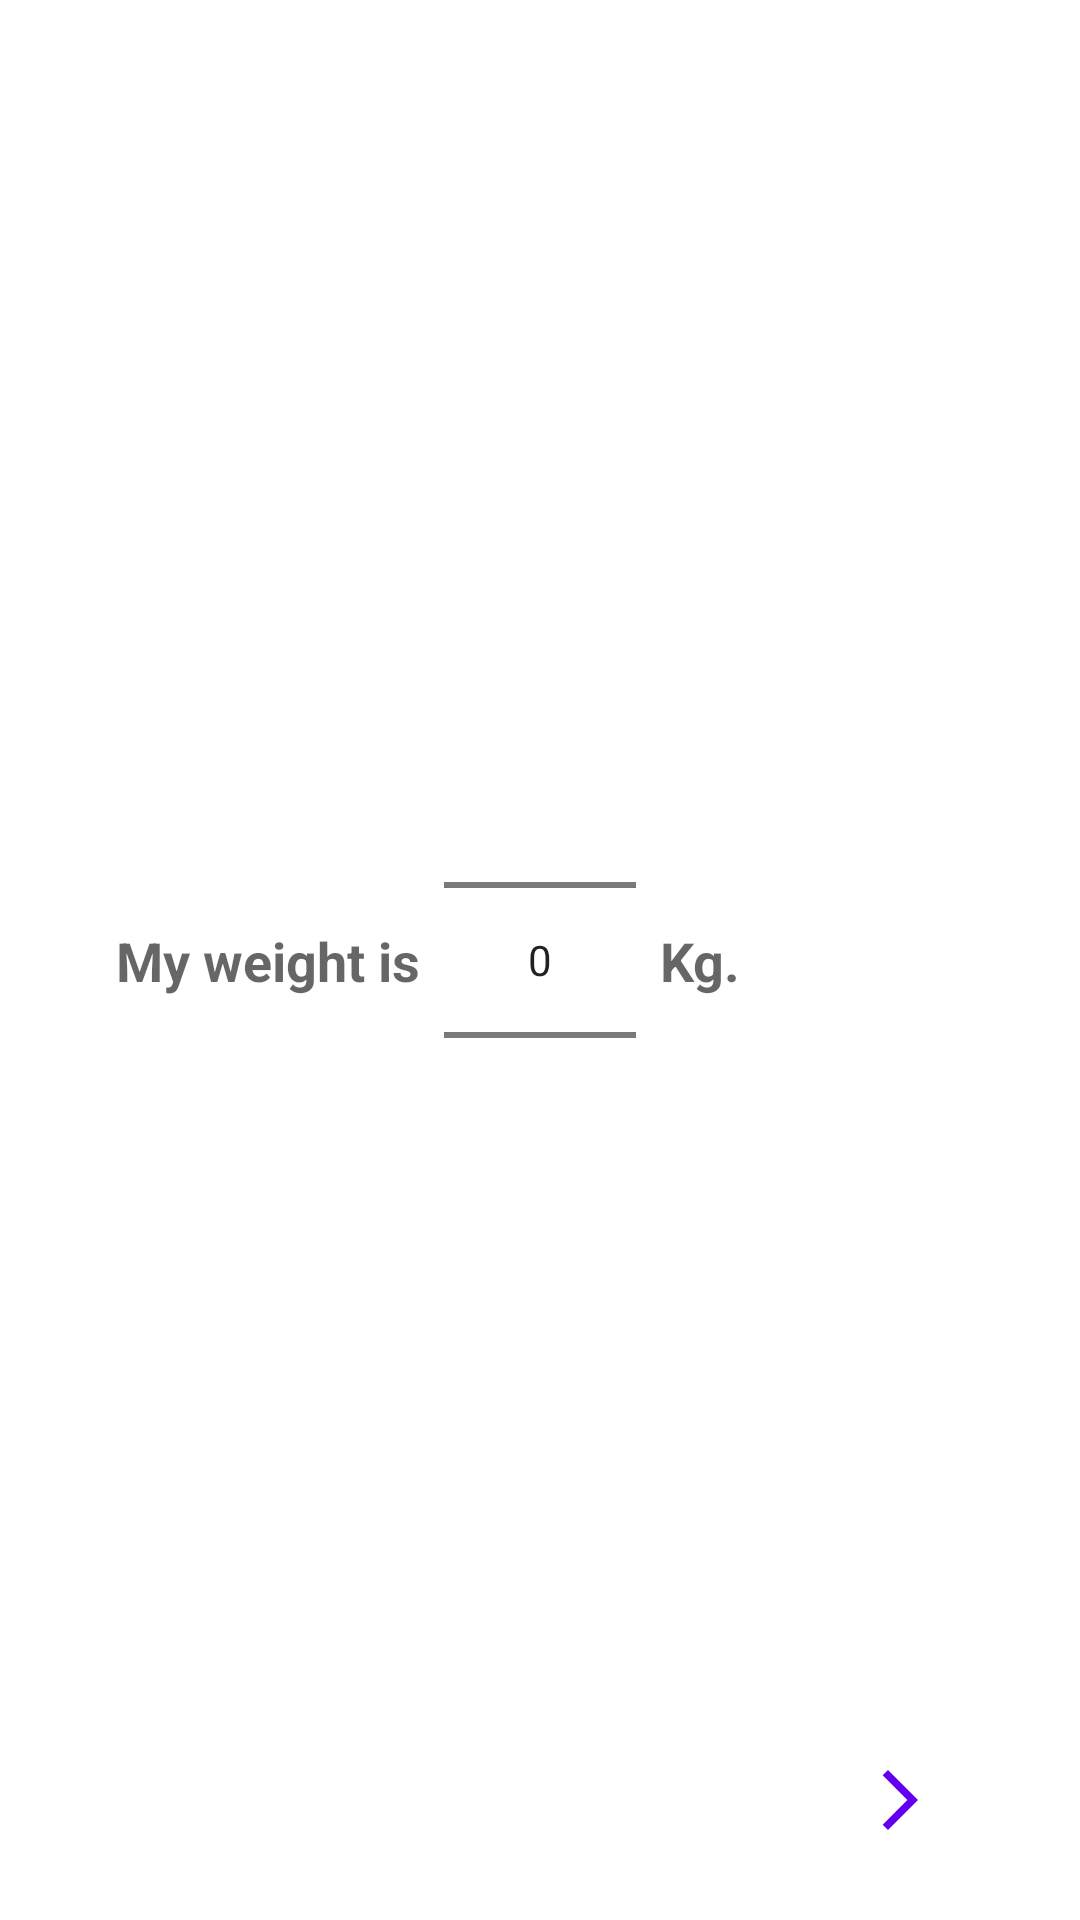

Icons on this 1080*1920 Android screen, each with the point to tap as point (x, y):
Next: point (900, 1800)
